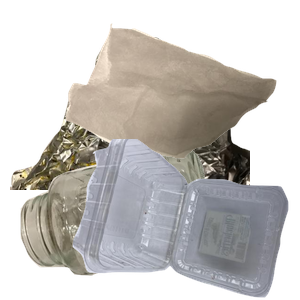glass: (18, 143, 227, 300)
metal: (10, 32, 250, 212)
plastic: (70, 139, 300, 300)
trash: (63, 21, 300, 172)
